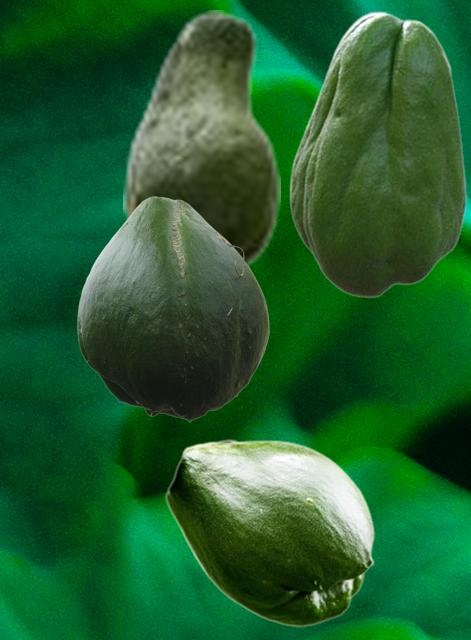sayote: (289, 11, 466, 297), (77, 196, 268, 421), (123, 10, 279, 272), (165, 439, 374, 626)
